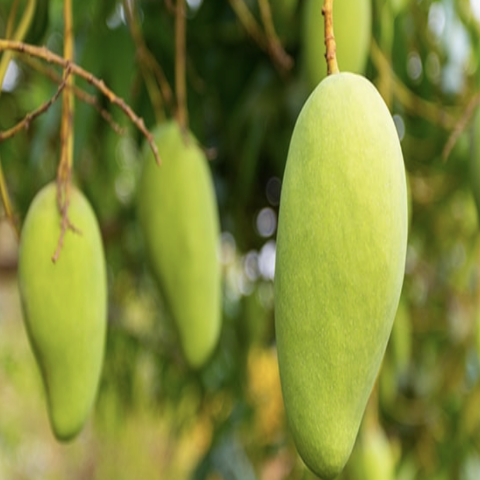mango: (253, 60, 431, 479), (125, 112, 233, 386), (7, 173, 111, 448)
